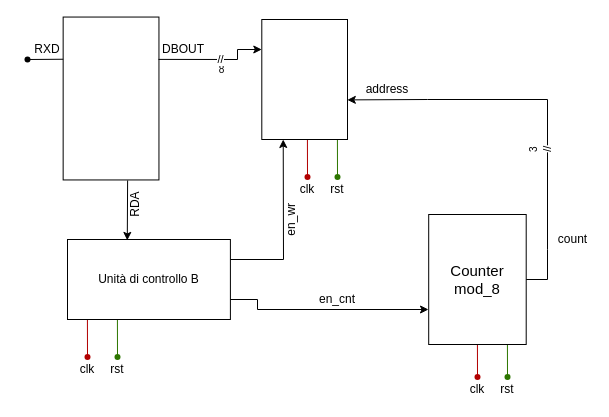
This 609x417 diagram has some shape labels left out. Here are the shapes that lost their labels. From the top down, the centre of each, then its label:
the point at 110,98: UART_B
the point at 304,79: MEM
